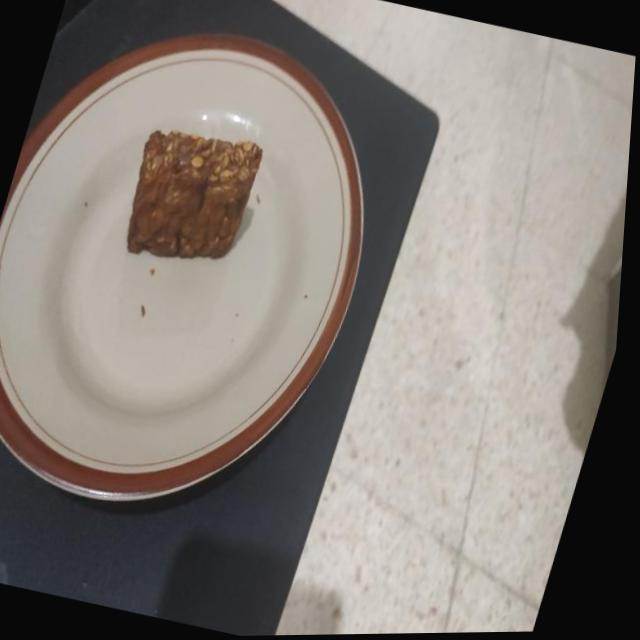tempe_goreng: (127, 130, 262, 257)
